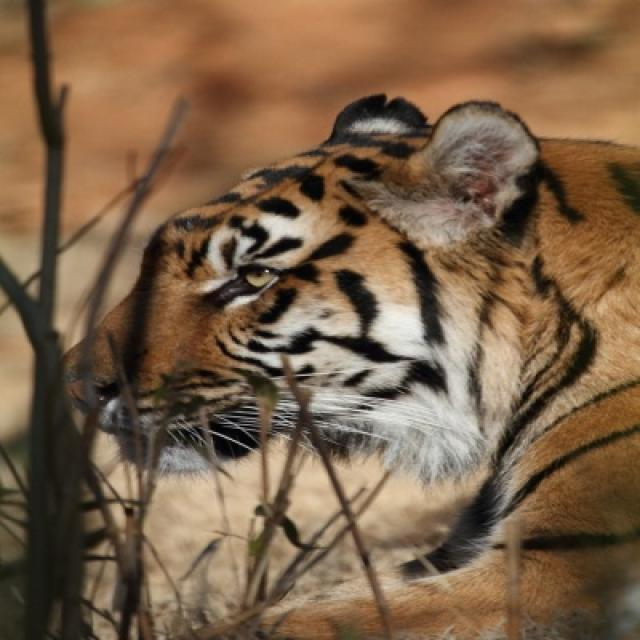Tiger: (64, 91, 638, 638)
